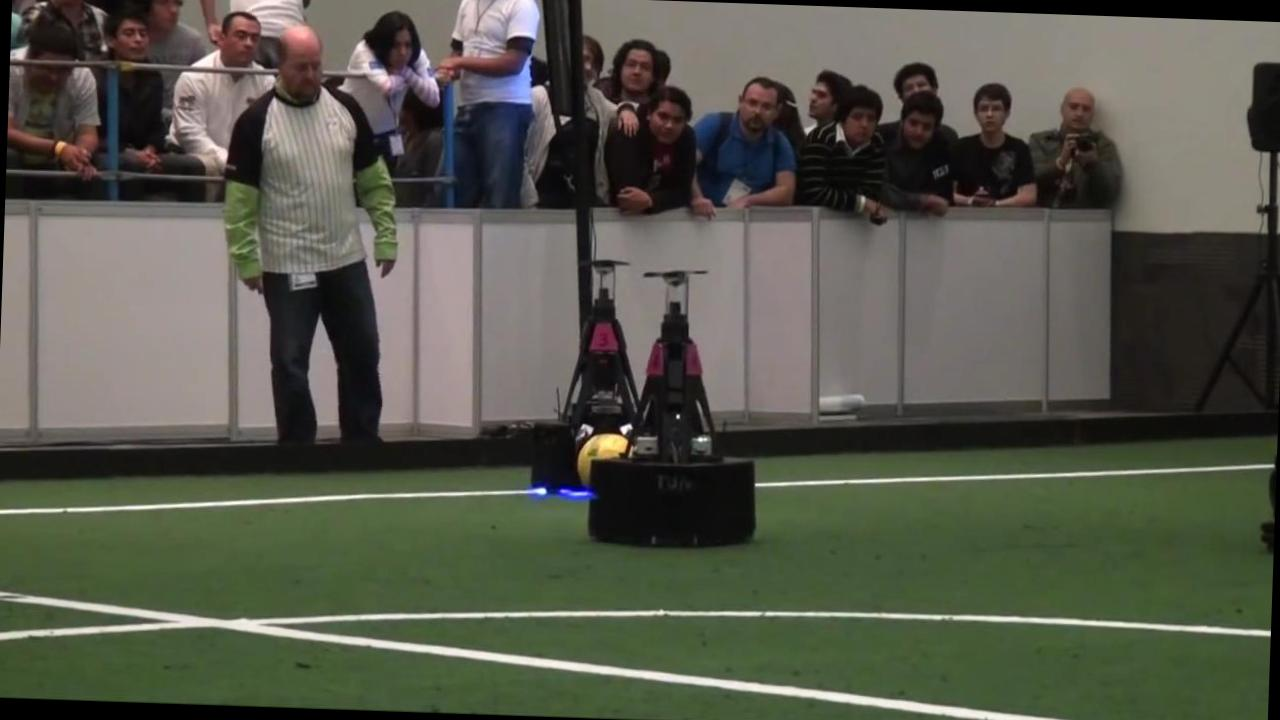ball: (577, 434, 629, 486)
person: (224, 25, 399, 443)
robot: (589, 273, 757, 546), (531, 259, 639, 491)
